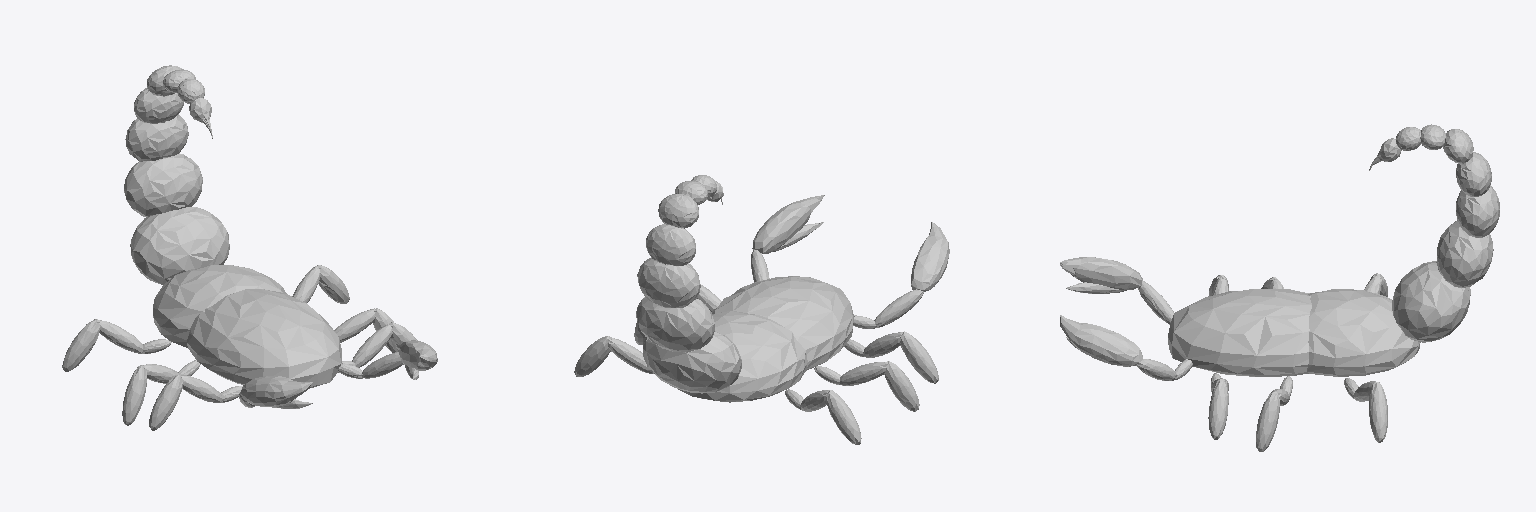
Rendered from scorpion_000008.obj.
The picture shows the model from 3 angles: view 1: azimuth 30°, elevation 25°; view 2: azimuth 150°, elevation 25°; view 3: azimuth 270°, elevation 25°; orthographic projection.
Visible parts, largest first — view 1: Sphere.010_Sphere.012, Sphere.002_Sphere.004, Sphere.011_Sphere.013, Sphere.003_Sphere.005, Sphere.030_Sphere.000, Sphere.004_Sphere.006, Sphere.014_Sphere.023, Sphere.013_Sphere.017, Sphere.000_Sphere.019, Sphere.012_Sphere.020, Sphere.018_Sphere.025, Sphere.005_Sphere.007 (+3 smaller); view 2: Sphere.010_Sphere.012, Sphere.011_Sphere.013, Sphere.002_Sphere.004, Sphere.030_Sphere.000, Sphere.003_Sphere.005, Sphere.004_Sphere.006, Sphere.014_Sphere.023, Sphere.005_Sphere.007, Sphere.028_Sphere.046, Sphere.018_Sphere.025, Sphere.006_Sphere.008, Sphere.012_Sphere.020 (+3 smaller); view 3: Sphere.010_Sphere.012, Sphere.011_Sphere.013, Sphere.002_Sphere.004, Sphere.030_Sphere.000, Sphere.003_Sphere.005, Sphere.004_Sphere.006, Sphere.028_Sphere.046, Sphere.005_Sphere.007, Sphere.014_Sphere.023, Sphere.000_Sphere.019, Sphere.012_Sphere.020, Sphere.006_Sphere.008 (+1 smaller).
Boxes of the visible parts, x1=… form: Sphere.010_Sphere.012: x1=187, y1=289, x2=341, y2=388; Sphere.002_Sphere.004: x1=130, y1=207, x2=229, y2=284; Sphere.011_Sphere.013: x1=153, y1=265, x2=286, y2=347; Sphere.003_Sphere.005: x1=124, y1=153, x2=202, y2=216; Sphere.030_Sphere.000: x1=241, y1=340, x2=437, y2=406; Sphere.004_Sphere.006: x1=125, y1=114, x2=188, y2=161; Sphere.014_Sphere.023: x1=62, y1=265, x2=349, y2=371; Sphere.013_Sphere.017: x1=181, y1=323, x2=392, y2=402; Sphere.000_Sphere.019: x1=149, y1=322, x2=417, y2=430; Sphere.012_Sphere.020: x1=122, y1=308, x2=398, y2=425; Sphere.018_Sphere.025: x1=99, y1=266, x2=320, y2=353; Sphere.005_Sphere.007: x1=134, y1=88, x2=183, y2=123; Sphere.010_Sphere.012: x1=712, y1=276, x2=853, y2=370; Sphere.011_Sphere.013: x1=678, y1=311, x2=807, y2=402; Sphere.002_Sphere.004: x1=643, y1=328, x2=741, y2=393; Sphere.030_Sphere.000: x1=752, y1=195, x2=949, y2=291; Sphere.003_Sphere.005: x1=636, y1=297, x2=714, y2=352; Sphere.004_Sphere.006: x1=637, y1=258, x2=700, y2=307; Sphere.014_Sphere.023: x1=574, y1=336, x2=861, y2=444; Sphere.005_Sphere.007: x1=646, y1=224, x2=695, y2=265; Sphere.028_Sphere.046: x1=751, y1=250, x2=923, y2=327; Sphere.018_Sphere.025: x1=608, y1=338, x2=827, y2=411; Sphere.006_Sphere.008: x1=658, y1=194, x2=698, y2=228; Sphere.012_Sphere.020: x1=634, y1=321, x2=919, y2=411; Sphere.010_Sphere.012: x1=1168, y1=289, x2=1311, y2=376; Sphere.011_Sphere.013: x1=1307, y1=289, x2=1420, y2=376; Sphere.002_Sphere.004: x1=1392, y1=261, x2=1470, y2=342; Sphere.030_Sphere.000: x1=1060, y1=257, x2=1142, y2=366; Sphere.003_Sphere.005: x1=1436, y1=220, x2=1493, y2=287; Sphere.004_Sphere.006: x1=1456, y1=185, x2=1499, y2=237; Sphere.028_Sphere.046: x1=1136, y1=280, x2=1176, y2=380; Sphere.005_Sphere.007: x1=1456, y1=152, x2=1491, y2=196; Sphere.014_Sphere.023: x1=1369, y1=273, x2=1387, y2=442; Sphere.000_Sphere.019: x1=1208, y1=275, x2=1228, y2=439; Sphere.012_Sphere.020: x1=1256, y1=277, x2=1279, y2=451; Sphere.006_Sphere.008: x1=1443, y1=129, x2=1473, y2=163.
Size of the model in its own units: 0.9378 by 0.8086 by 1.25.